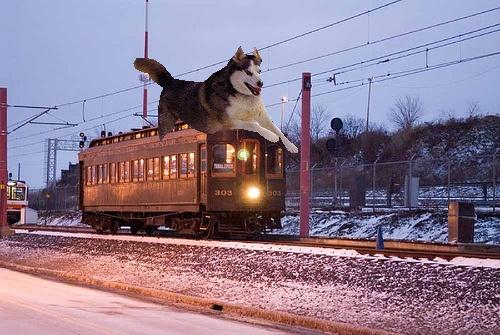tampered: (134, 47, 298, 153)
